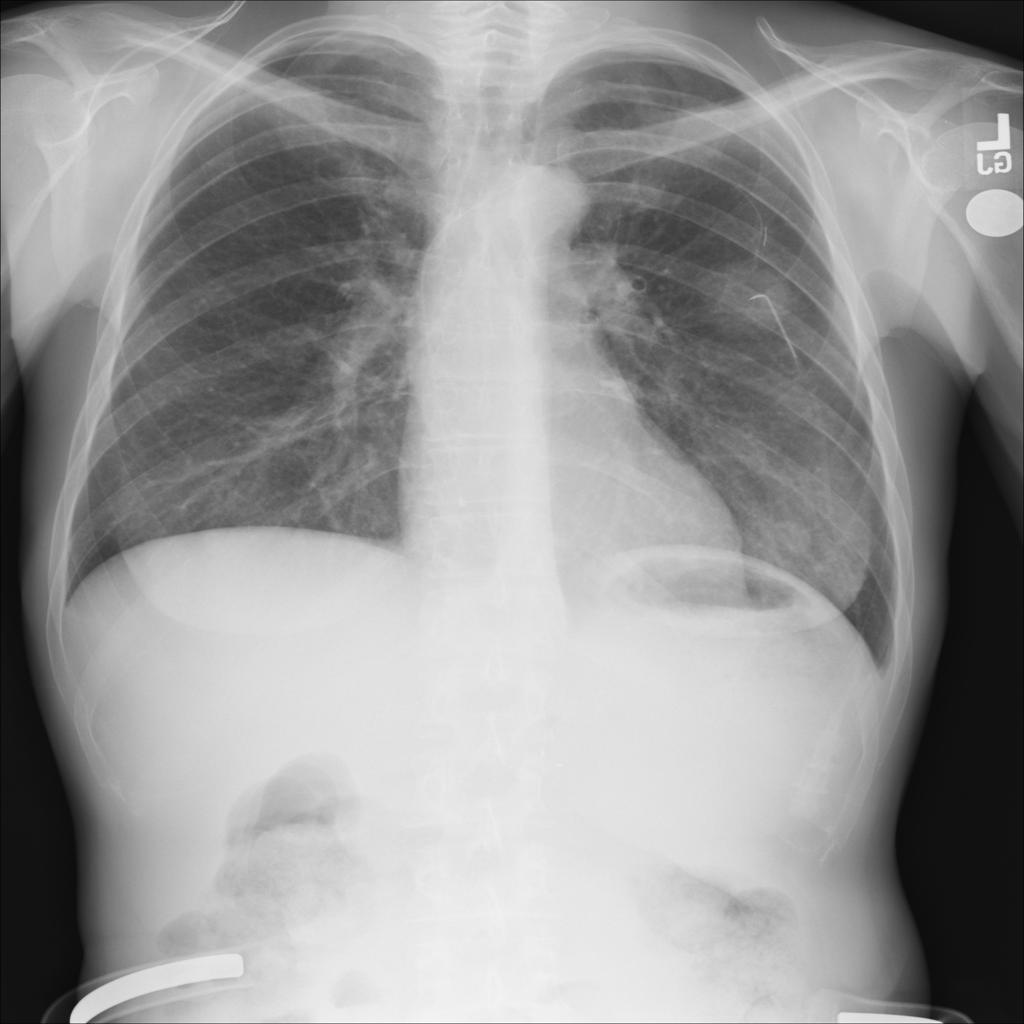nodule: (679, 243, 817, 350), (744, 508, 831, 573)
